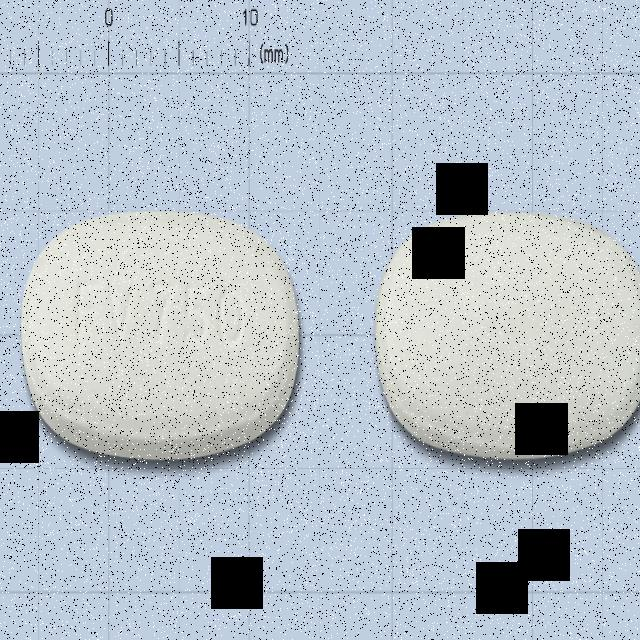Famvir: (20, 211, 299, 462)
